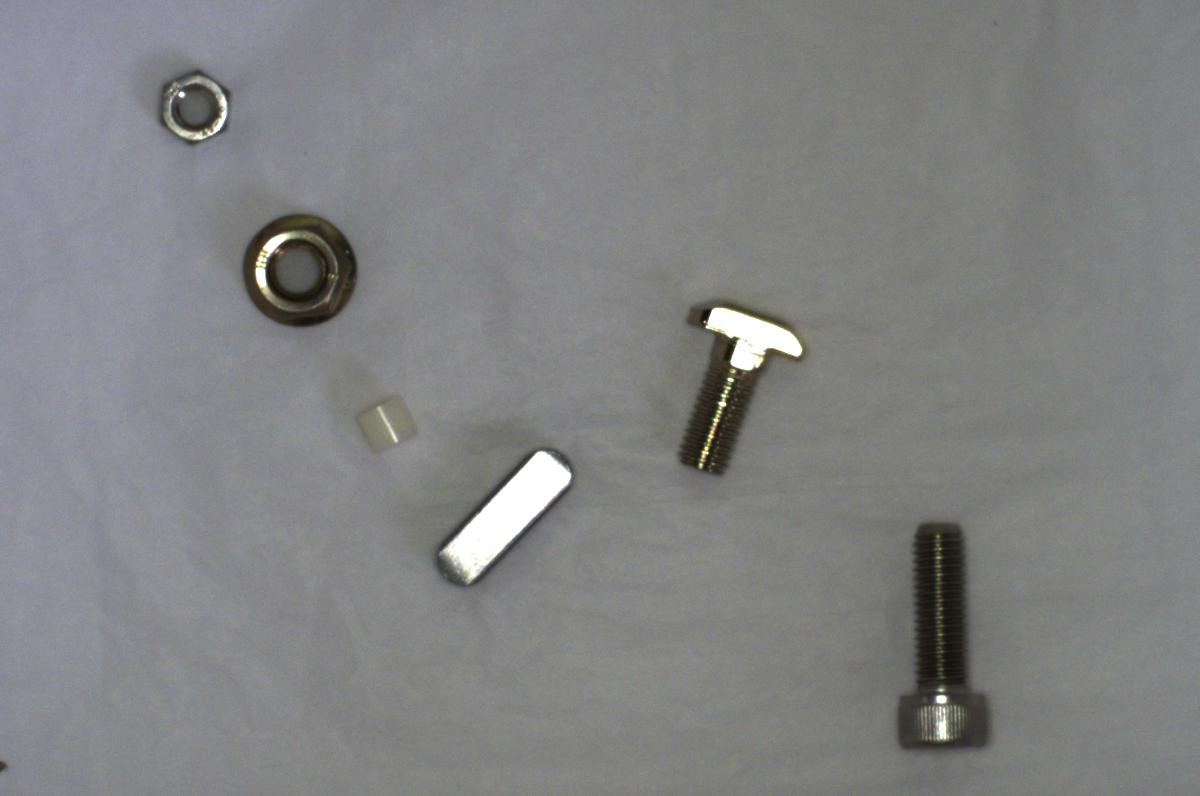Flange nut: (225, 205, 371, 332)
Hexagon nut: (144, 62, 244, 155)
Hexagon screw: (878, 501, 1014, 762)
Keybar: (413, 441, 579, 594)
Plastic cushion pillar: (345, 390, 431, 458)
T-shaped screw: (647, 294, 814, 488)
